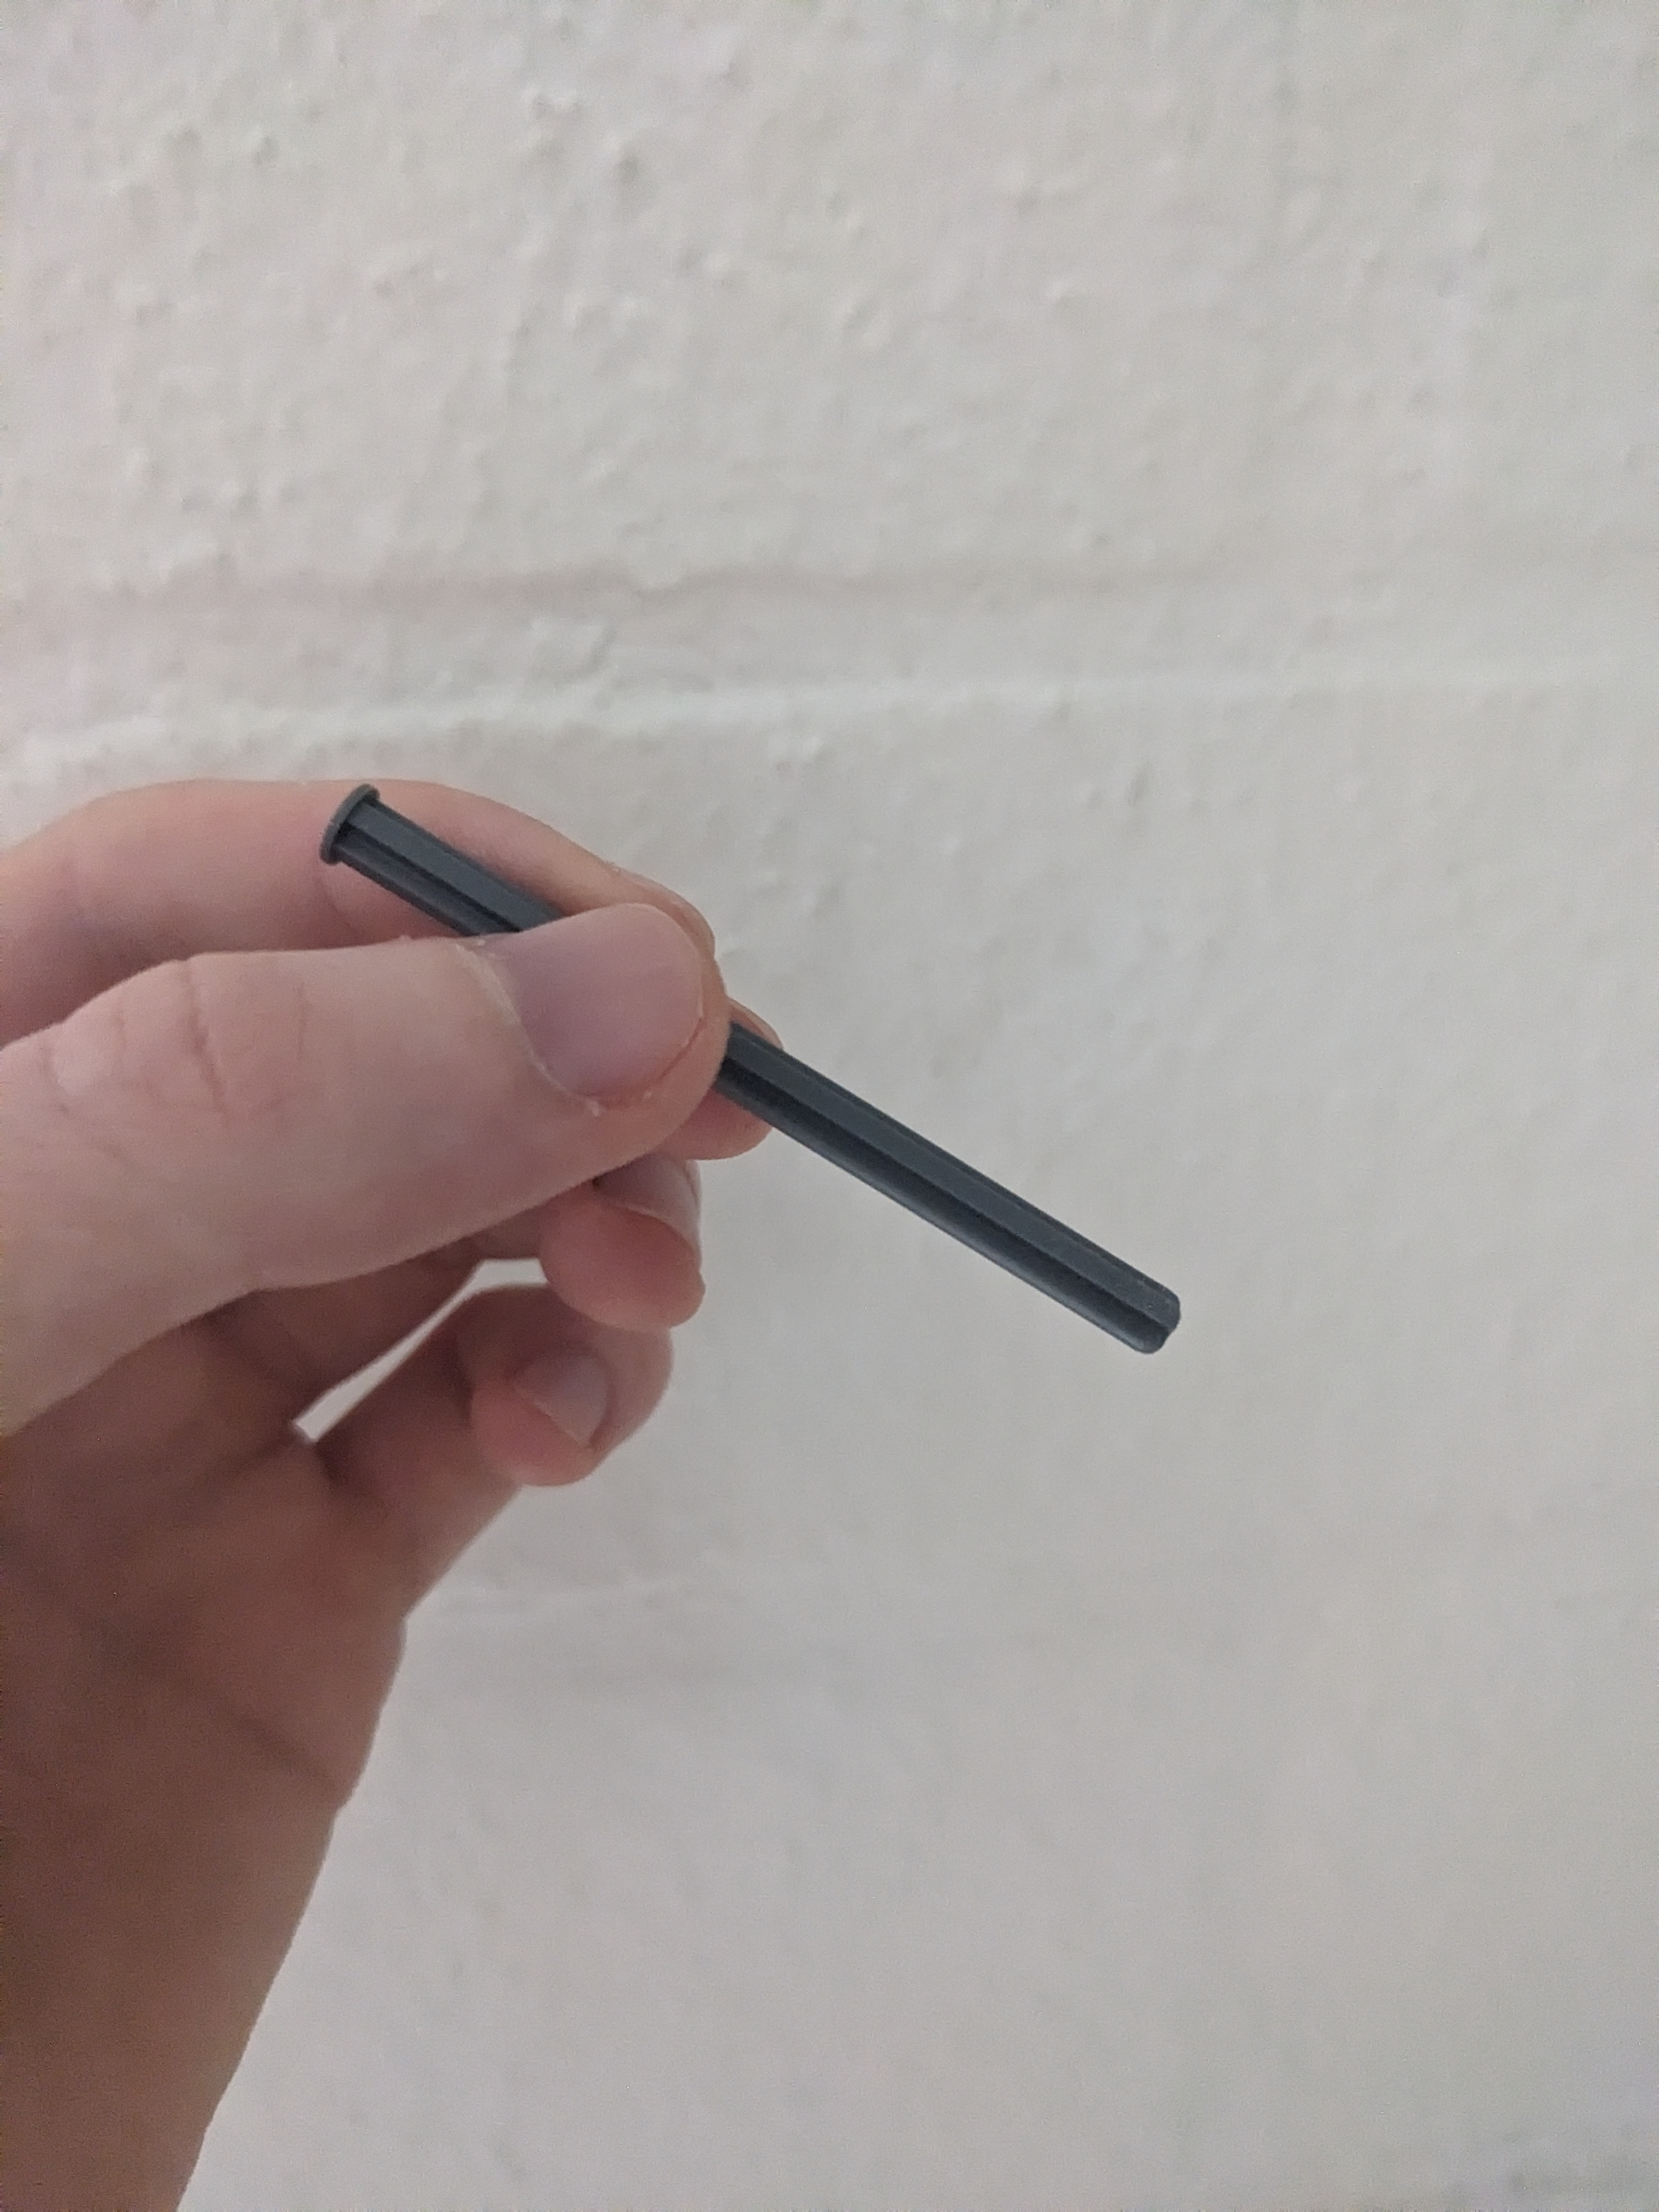Grau_lang: (301, 763, 1218, 1383)
